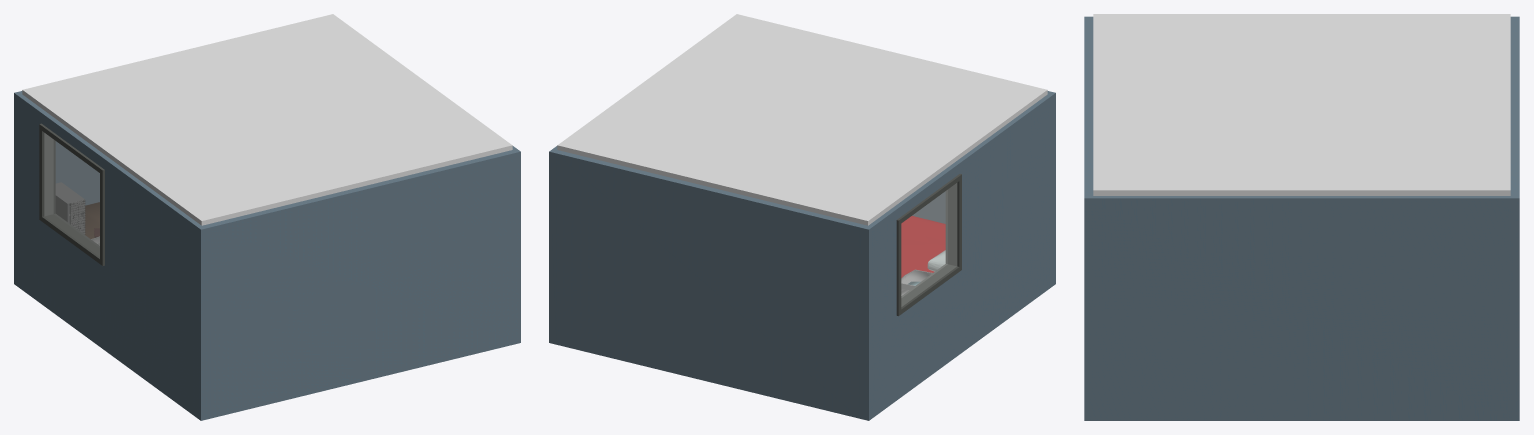
The model's file is ernest_room-transformed.glb.
3 views of the same model, side by side, from view 1: azimuth 30°, elevation 25°; view 2: azimuth 150°, elevation 25°; view 3: azimuth 270°, elevation 25° (orthographic). The views are drawn at different scales.
Visible parts, largest first — view 1: Plane.006, Cylinder, Window Glass, Plane.002, keyboard_back, table; view 2: Plane.006, Cylinder, Plane.002, Window Glass; view 3: Plane.006, Cylinder.
Boxes of the visible parts, x1=… form: Plane.006: x1=14, y1=91, x2=520, y2=420; Cylinder: x1=22, y1=14, x2=512, y2=225; Window Glass: x1=44, y1=133, x2=99, y2=256; Plane.002: x1=39, y1=123, x2=104, y2=265; keyboard_back: x1=55, y1=182, x2=84, y2=232; table: x1=85, y1=202, x2=99, y2=238; Plane.006: x1=549, y1=91, x2=1055, y2=420; Cylinder: x1=557, y1=14, x2=1047, y2=225; Plane.002: x1=896, y1=174, x2=961, y2=316; Window Glass: x1=901, y1=183, x2=956, y2=306; Plane.006: x1=1084, y1=16, x2=1519, y2=420; Cylinder: x1=1093, y1=14, x2=1510, y2=195.
Bounding box in the file's own units: 7.05 × 4.1 × 7.09.
Materials: 9 (9 with a texture image).
